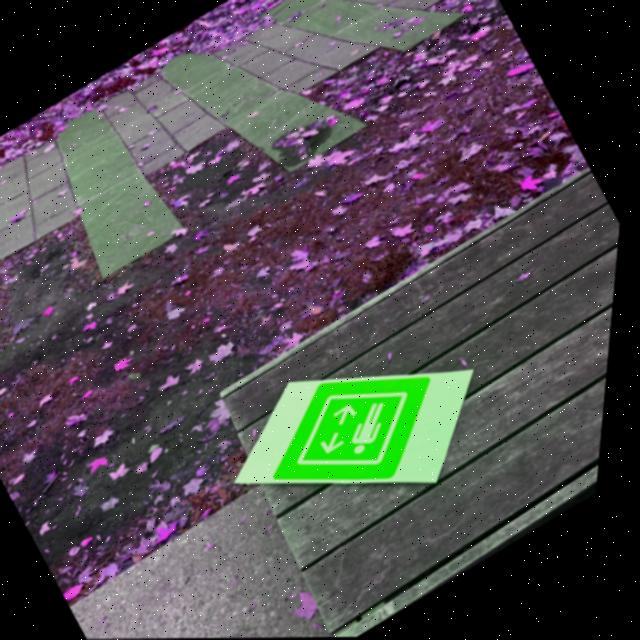elevator: (274, 379, 434, 480)
